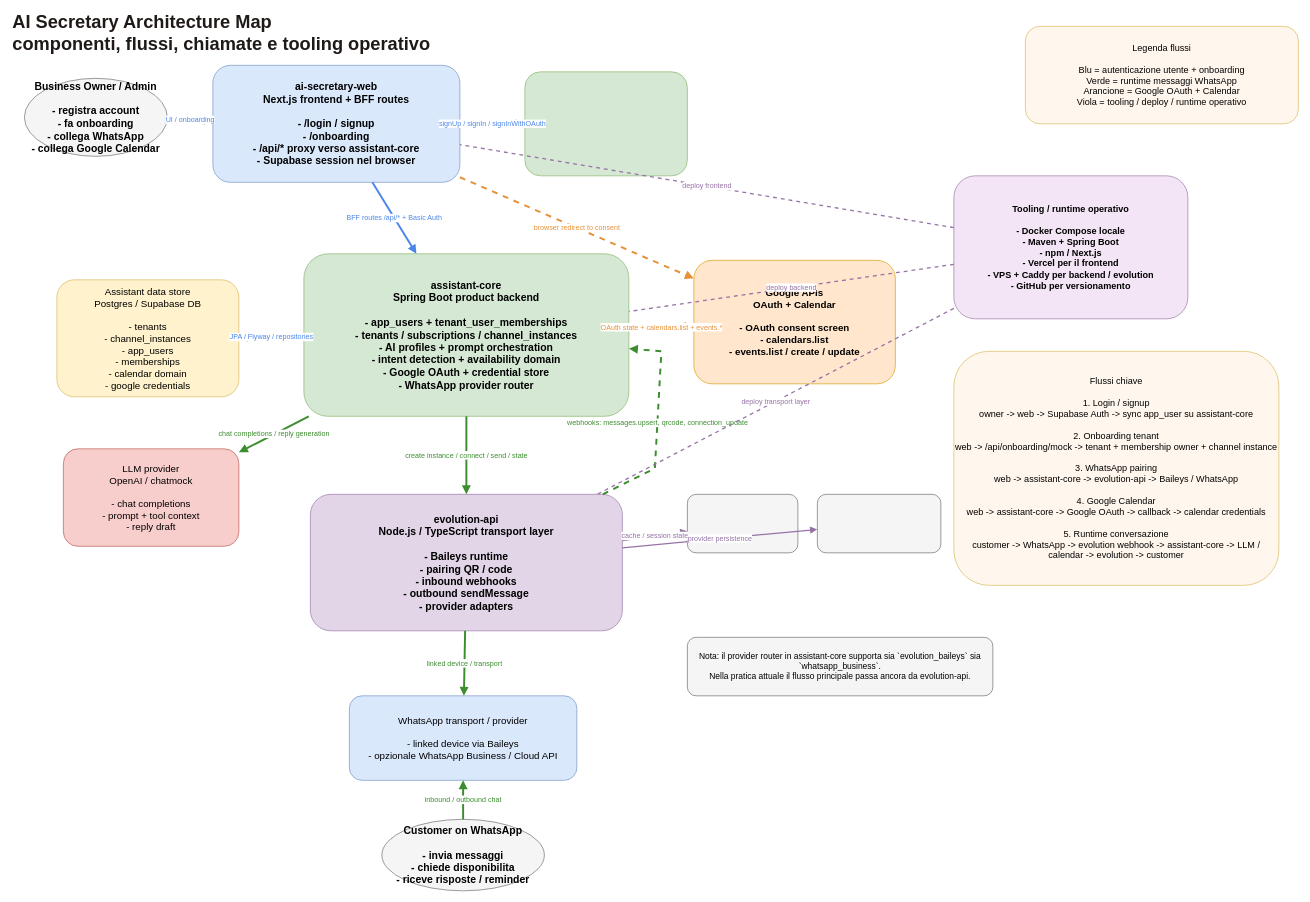
The diagram is 1310 pixels wide and 902 high, and some of its shapes have lost their labels. The box of each missing label's shape, as (x1, y1, x2, y2) in pixels:
Evolution Postgres provider state / messages: (817, 494, 941, 553)
Redis provider cache / sessions: (687, 494, 798, 553)
Supabase Auth - email/password - Google social login - session token client-side: (524, 71, 687, 176)
